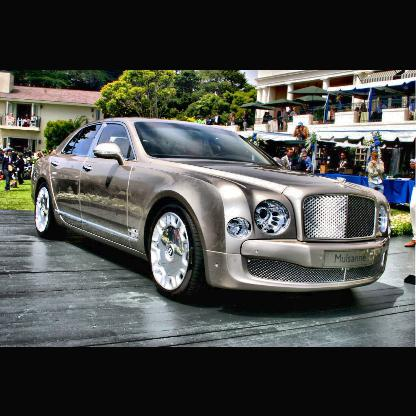Bentley Mulsanne Sedan 2011: (30, 120, 394, 300)
